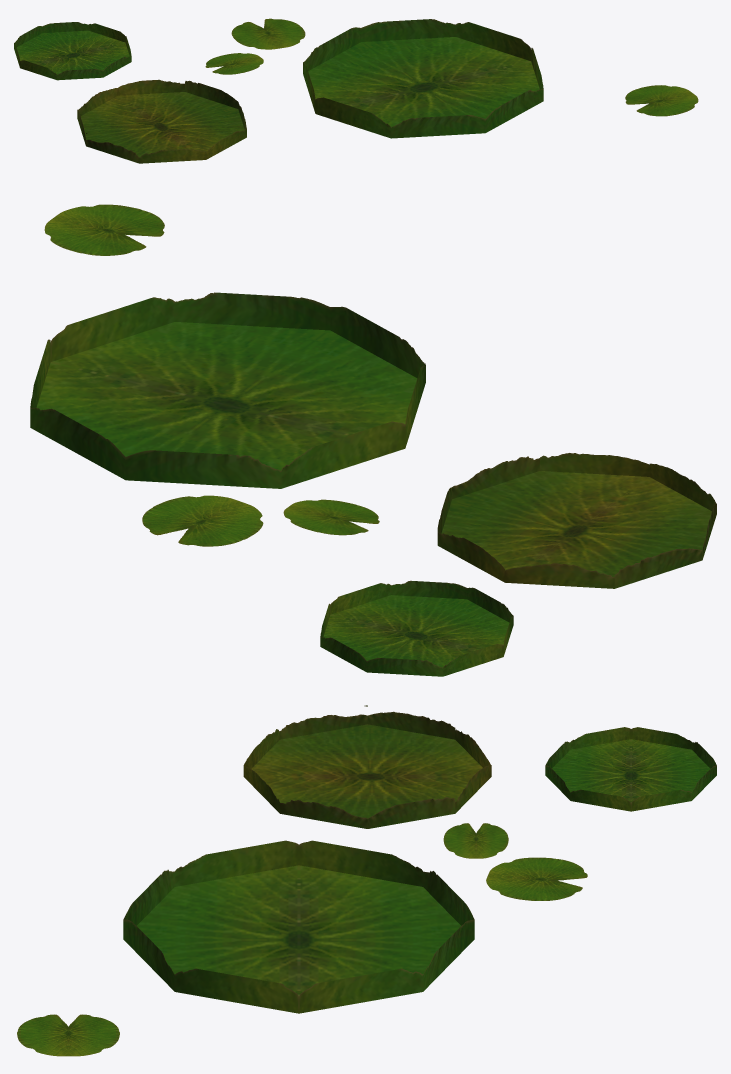
Rendered from shuilian_xn_42.FBX.
The picture shows the model from 3 angles, top to bottom: view 1: azimuth 30°, elevation 25°; view 2: azimuth 150°, elevation 25°; view 3: azimuth 270°, elevation 25°; orthographic projection. The views are drawn at different scales.
Parts seen in each view (by area): view 1: xinanshuilian_42; view 2: xinanshuilian_42; view 3: xinanshuilian_42.
Boxes of the visible parts, x1,y1,x2,y2 form: xinanshuilian_42: (14, 18, 698, 163); xinanshuilian_42: (30, 204, 716, 676); xinanshuilian_42: (17, 705, 716, 1056).
Size of the model in its own units: 341 by 12.45 by 291.
